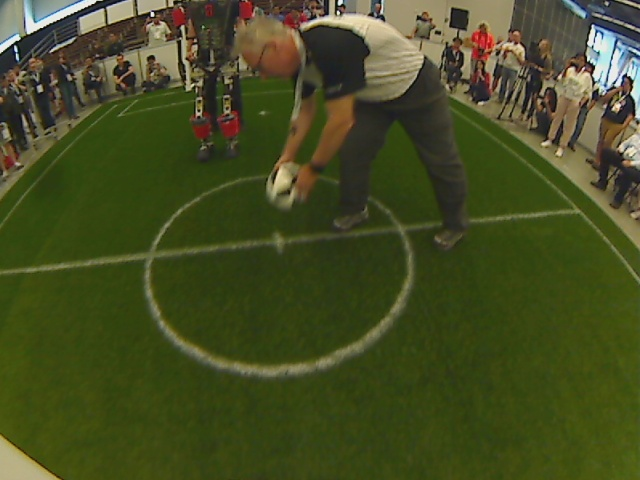ball: (262, 159, 317, 211)
